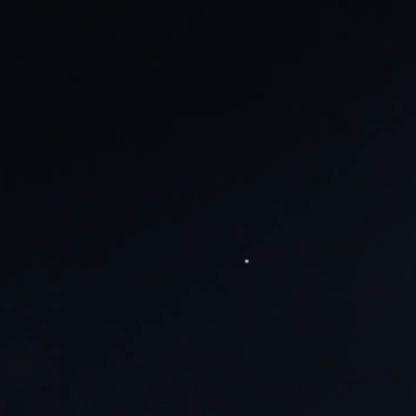ball: (240, 257, 254, 267)
